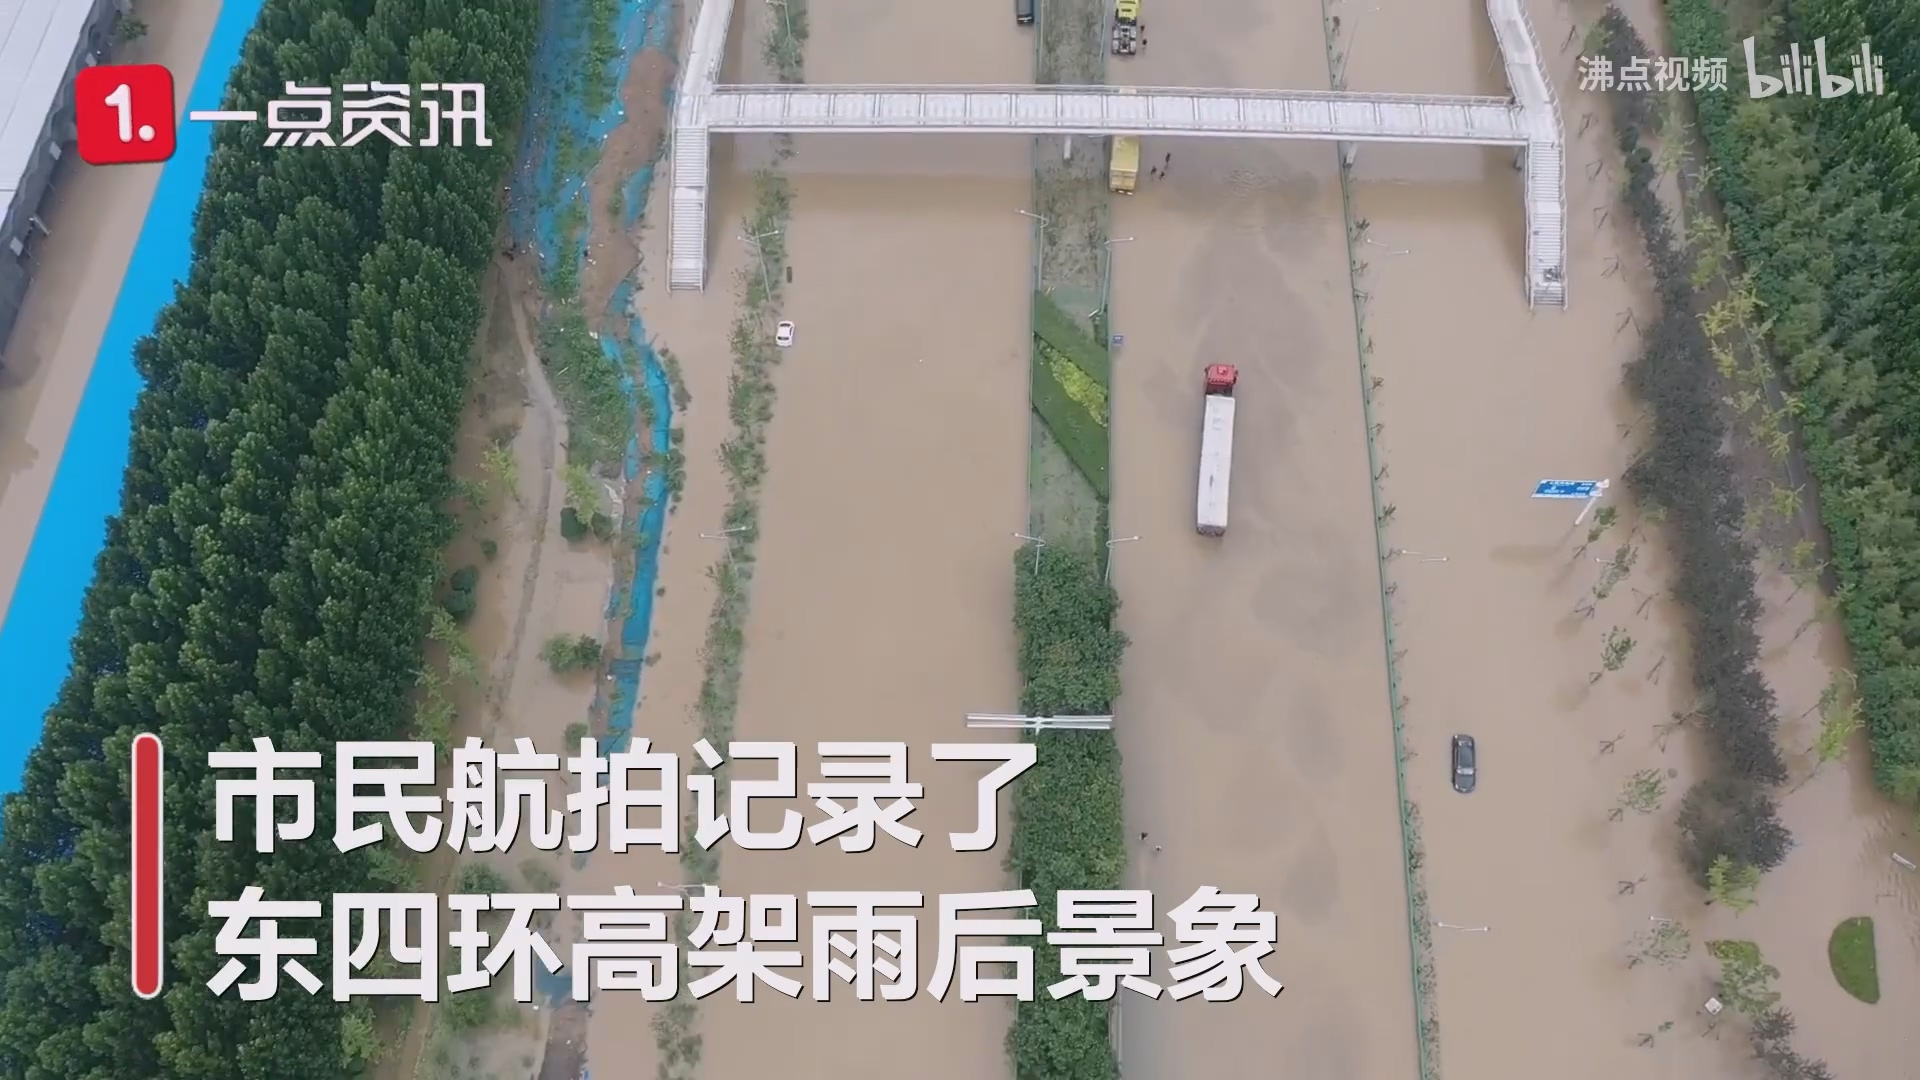puddle: (1105, 220, 1774, 878), (628, 229, 1096, 725)
